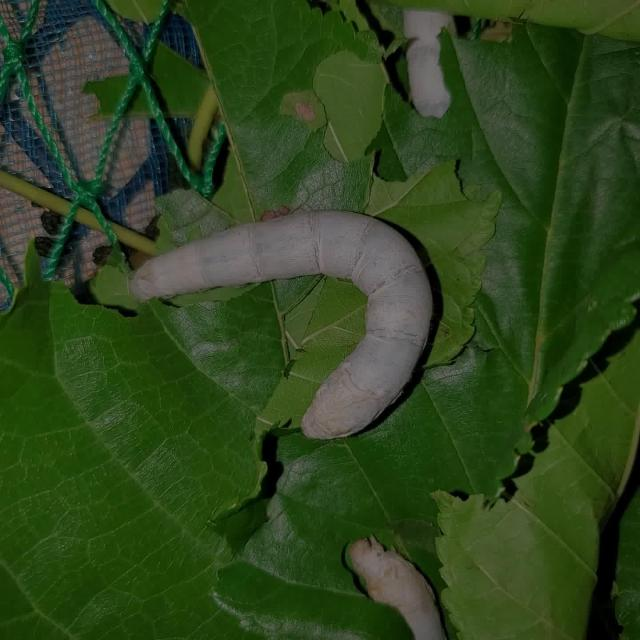Healthy: (98, 158, 469, 464)
